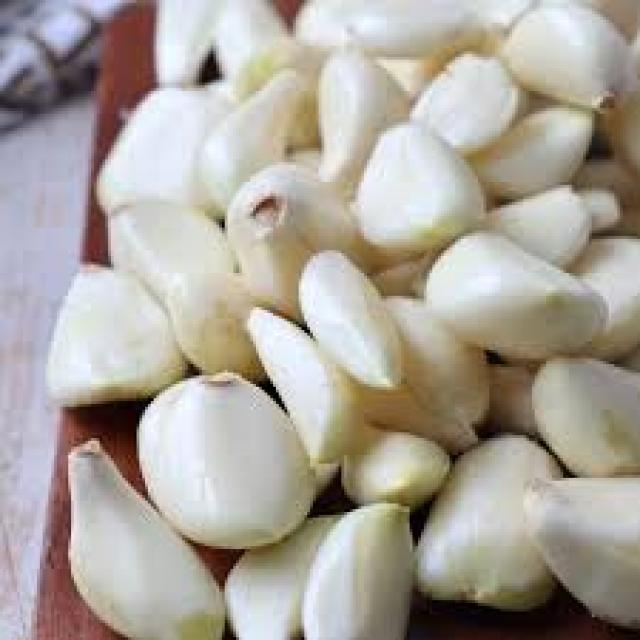Garlic: (52, 432, 268, 640), (416, 211, 616, 380), (290, 240, 451, 434), (235, 302, 378, 500), (130, 374, 306, 533), (434, 418, 590, 594), (66, 242, 200, 419), (215, 170, 380, 306), (306, 44, 442, 190), (308, 481, 432, 637), (518, 467, 640, 614), (96, 182, 240, 304), (494, 8, 633, 123), (348, 126, 472, 253), (400, 45, 507, 153)
